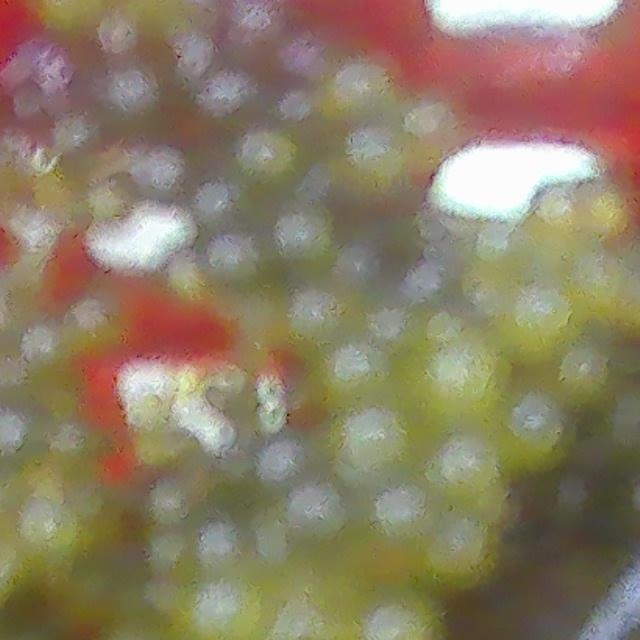SeaGrape: (314, 337, 399, 414), (421, 342, 503, 421), (546, 338, 617, 420), (179, 577, 271, 640), (428, 515, 503, 589), (505, 283, 573, 364), (433, 438, 498, 511), (369, 484, 434, 557), (572, 249, 633, 326), (283, 478, 349, 547), (519, 182, 585, 250), (344, 410, 408, 479), (273, 205, 337, 270), (499, 402, 561, 468), (578, 189, 638, 245)
